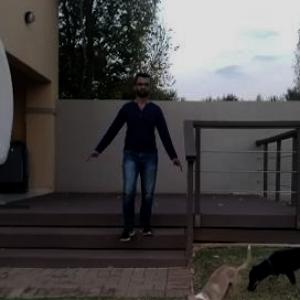land: (92, 76, 182, 245)
